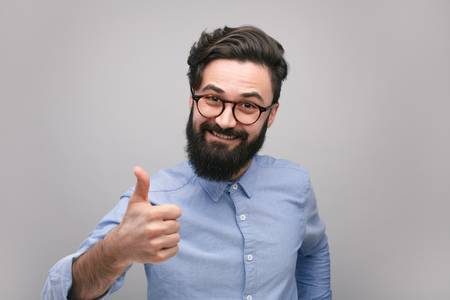S_shirt: (44, 147, 332, 300)
